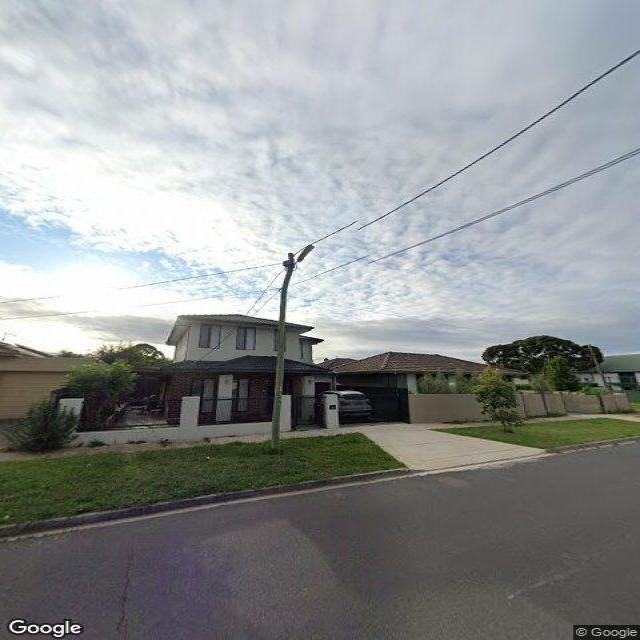streetlight: (291, 243, 316, 268)
timber-pole: (267, 256, 294, 449)
